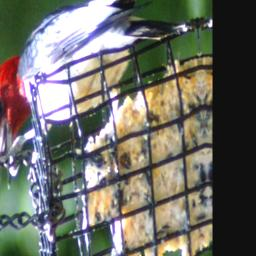Woodpecker: (0, 0, 206, 198)
